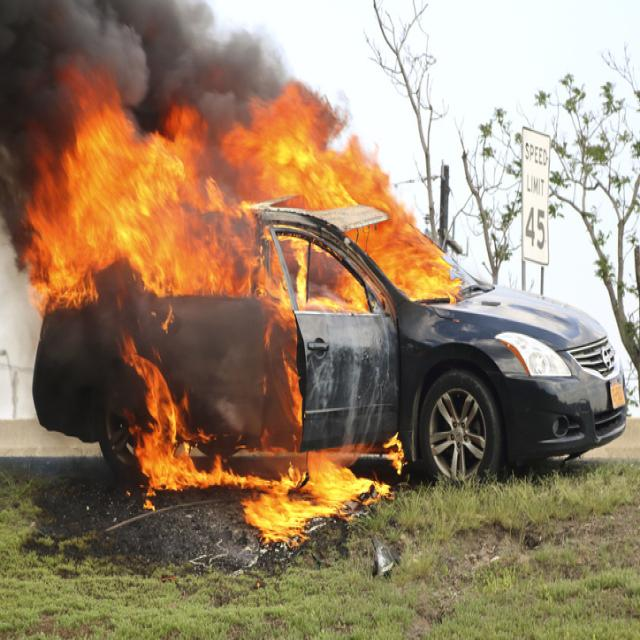fire: (18, 58, 137, 317), (249, 79, 363, 313), (138, 103, 249, 297), (343, 151, 464, 303), (243, 448, 393, 548), (118, 331, 207, 495), (207, 455, 285, 488)
